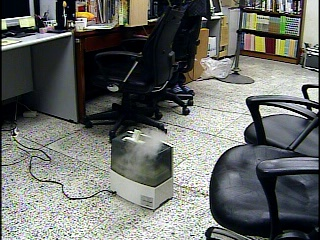smoke: (113, 123, 169, 180)
